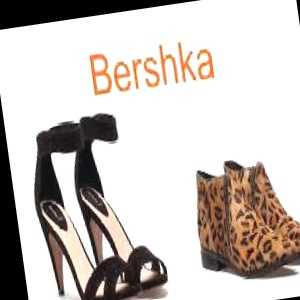bershka: (165, 7, 256, 48)
